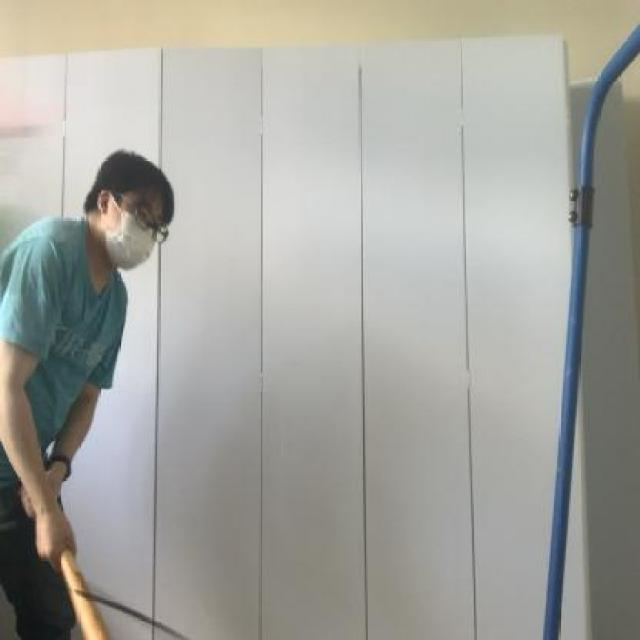baseball: (0, 189, 71, 303)
